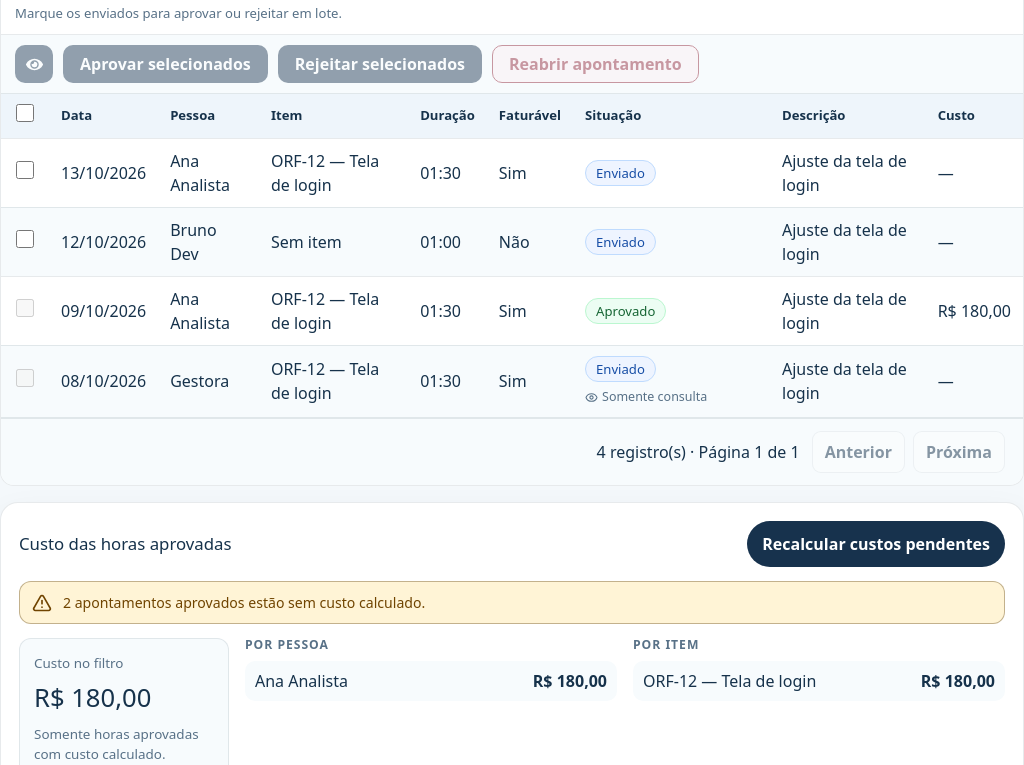
Test: Horas do projeto › impede a autoaprovação com a explicação do backend e mostra o detalhe do apontamento
The width and height of the screenshot is (1024, 765).
(page scrolled)
Check: the checkbox named "Selecionar apontamento de Gestora em 08/10/2026. Indisponível: Você não pode aprovar os próprios apontamentos." is disabled, box left=16, top=369, right=34, bottom=387
Click the row that starts with "Gestora" at (512, 381), box left=1, top=345, right=1023, bottom=418
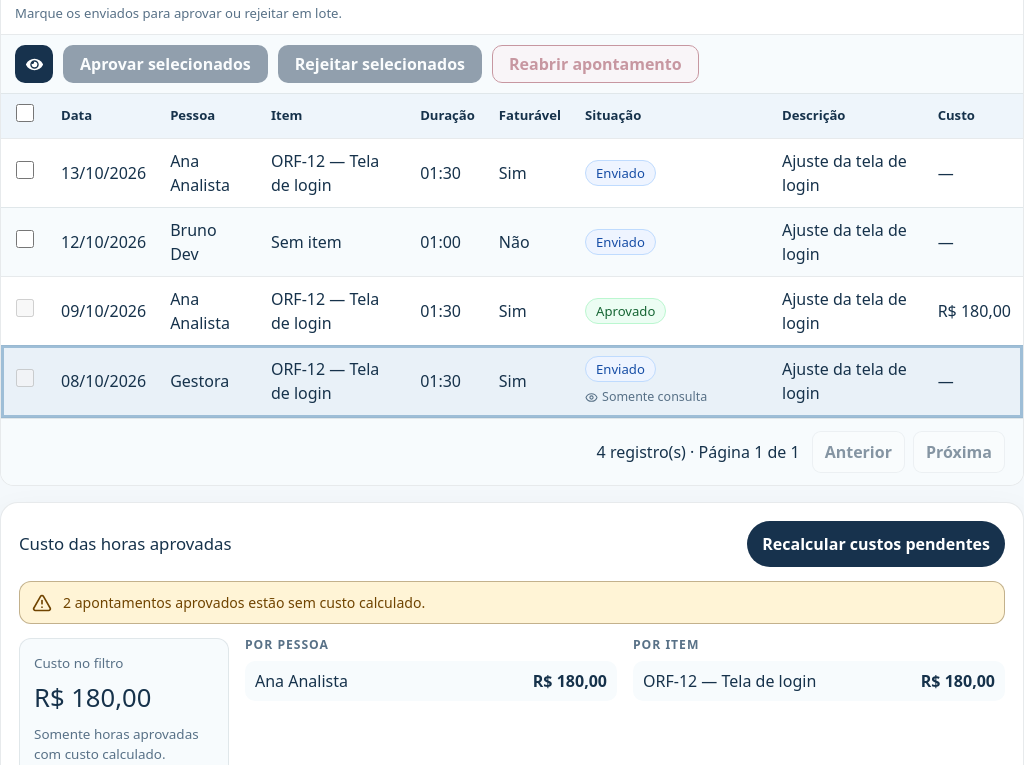
Check: the button named "Reabrir apontamento. Indisponível: Somente apontamentos aprovados podem ser reabertos." is disabled, box left=492, top=45, right=699, bottom=83
Click the button named "Visualizar apontamento" at (34, 64), box left=15, top=45, right=53, bottom=83
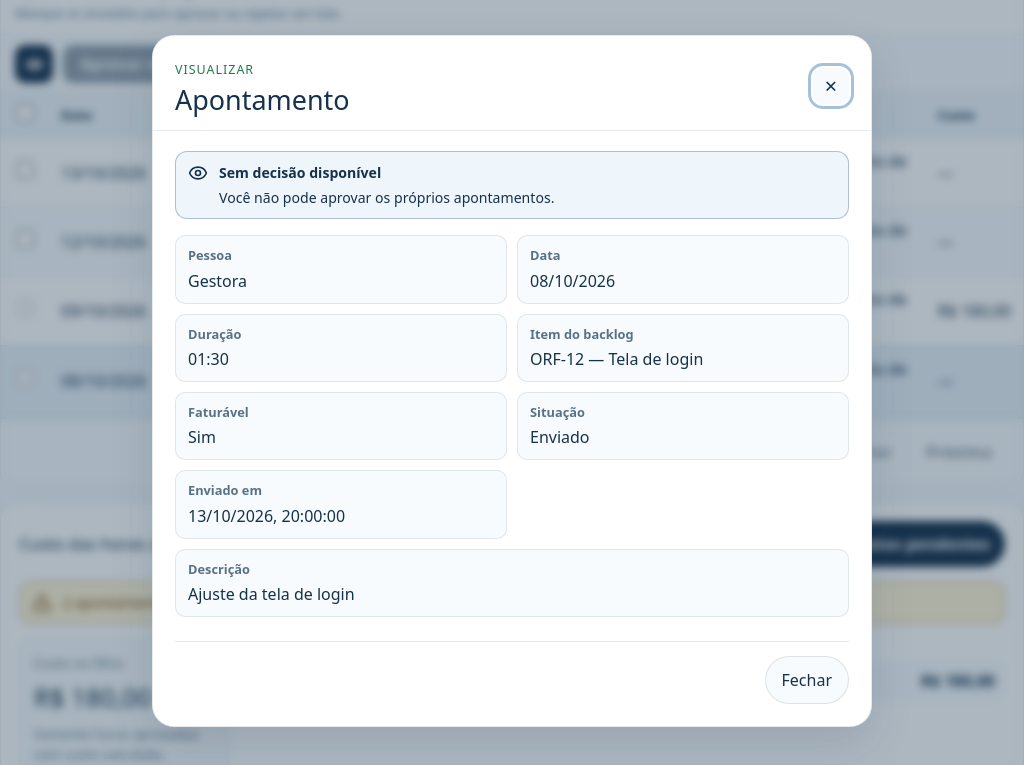
Check: the text "Sem decisão disponível" is shown, box left=219, top=163, right=381, bottom=182
Check: the text "Ajuste da tela de login" is shown, box left=188, top=583, right=355, bottom=605
Click the button "Fechar" at (807, 680), box left=764, top=656, right=849, bottom=704
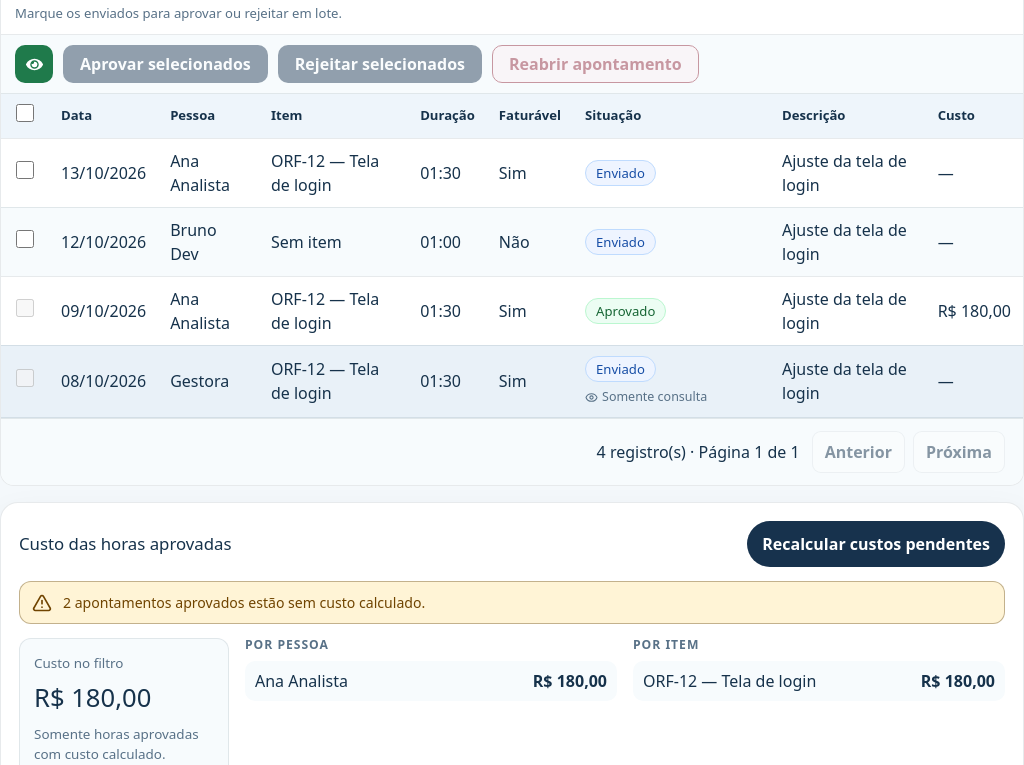
Check: the dialog is gone
